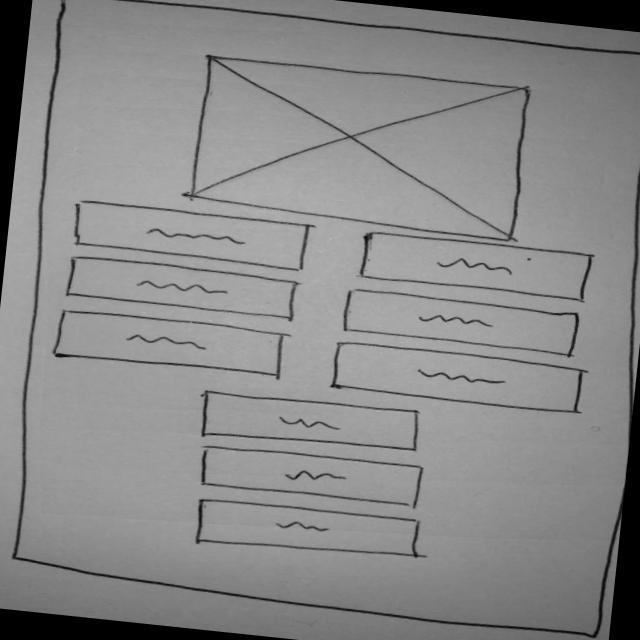container: (0, 0, 640, 640)
image: (185, 46, 544, 244)
input: (324, 337, 593, 418), (48, 299, 298, 385), (337, 282, 589, 362), (66, 198, 316, 276), (190, 384, 436, 462), (184, 492, 436, 568), (56, 250, 314, 322), (191, 439, 434, 514), (357, 228, 597, 303)
